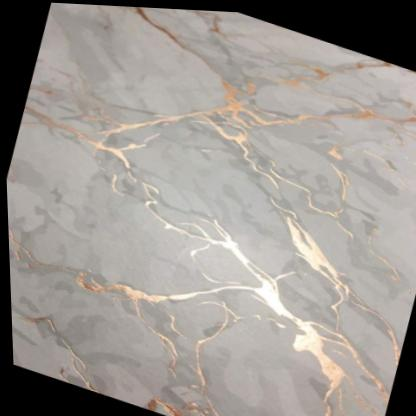Ceramic floor: (5, 2, 416, 416)
